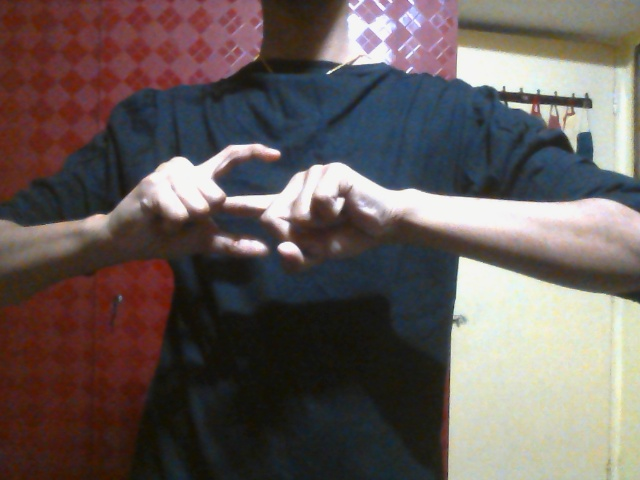E: (122, 140, 398, 283)
